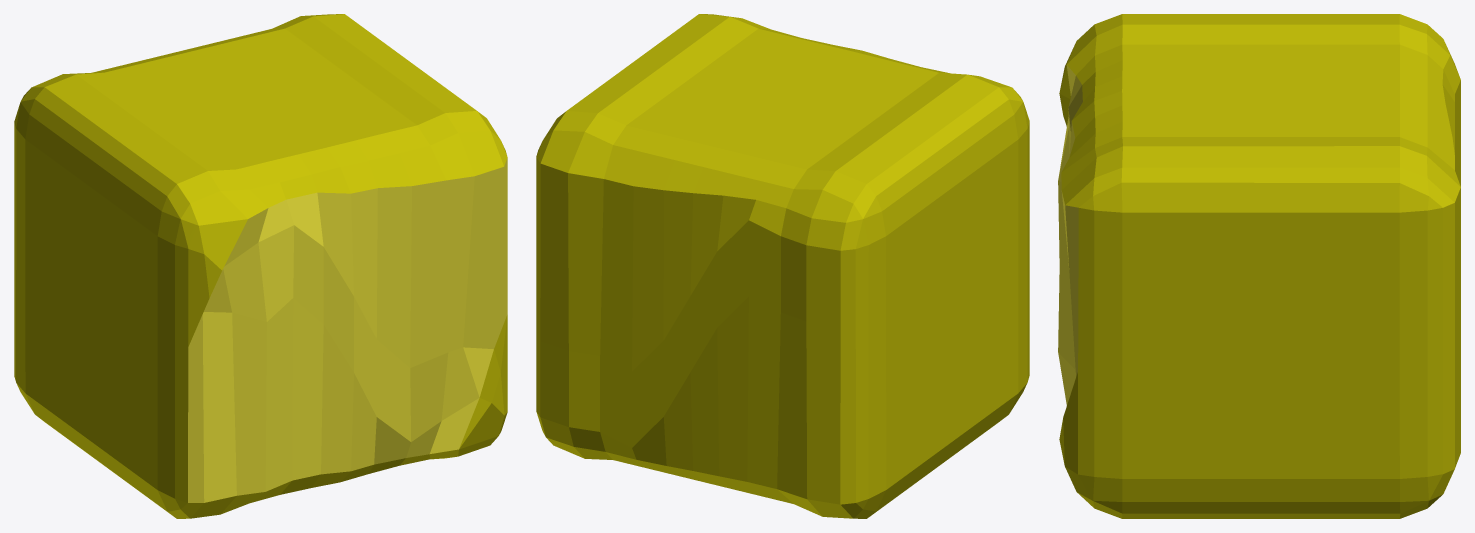
Rendered from smallyellowbutton.fbx.
3 views of the same model, side by side, from view 1: azimuth 30°, elevation 25°; view 2: azimuth 150°, elevation 25°; view 3: azimuth 270°, elevation 25° (orthographic). The views are drawn at different scales.
Parts seen in each view (by area): view 1: pCube7; view 2: pCube7; view 3: pCube7.
Boxes of the visible parts, left/top/right/bottom form: pCube7: left=14, top=14, right=507, bottom=518; pCube7: left=536, top=14, right=1029, bottom=518; pCube7: left=1058, top=14, right=1460, bottom=518.
Size of the model in its own units: 1.06 by 1.03 by 1.04.
